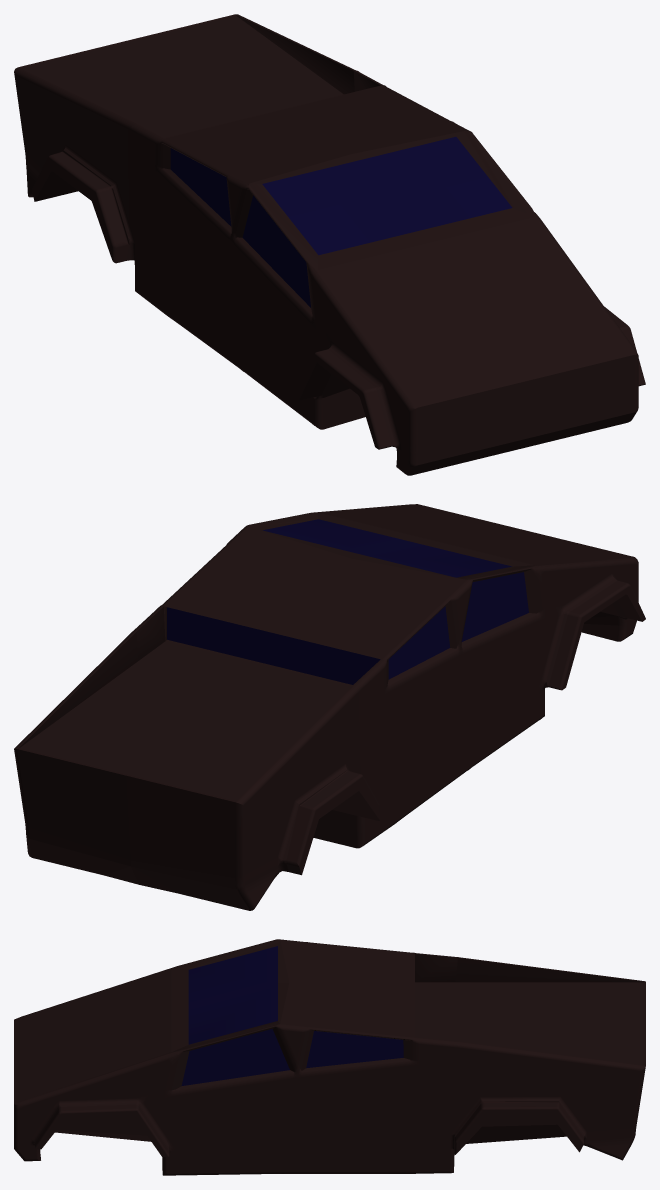
The model's file is Tesla.fbx.
3 views of the same model, one above another, from view 1: azimuth 30°, elevation 25°; view 2: azimuth 150°, elevation 25°; view 3: azimuth 270°, elevation 25° (orthographic). The views are drawn at different scales.
Visible parts, largest first — view 1: Cube; view 2: Cube; view 3: Cube.
Part boxes in pixels (x1,y1,x2,y2): Cube: [14, 14, 645, 475]; Cube: [14, 504, 645, 910]; Cube: [14, 939, 645, 1175].
Bounding box in the file's own units: 201 × 138 × 521.
